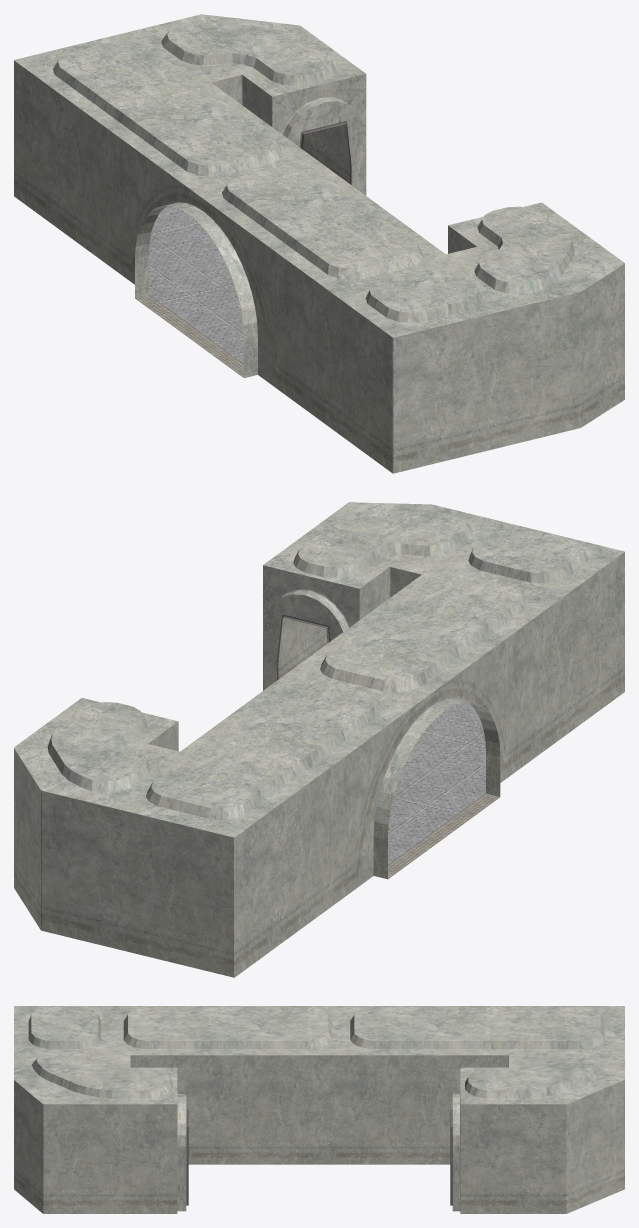
Rendered from thm_corl_cantina_r10_office_hallway_mesh_r10.fbx.
3 views of the same model, one above another, from view 1: azimuth 30°, elevation 25°; view 2: azimuth 150°, elevation 25°; view 3: azimuth 270°, elevation 25° (orthographic). The views are drawn at different scales.
Visible parts, largest first — view 1: mesh_node; view 2: mesh_node; view 3: mesh_node.
Part boxes in pixels (box(x1,y1,x2,y2)): mesh_node: box(14, 14, 624, 473); mesh_node: box(14, 502, 624, 977); mesh_node: box(14, 1006, 624, 1213).
Size of the model in its own units: 8.44 by 4.41 by 21.
